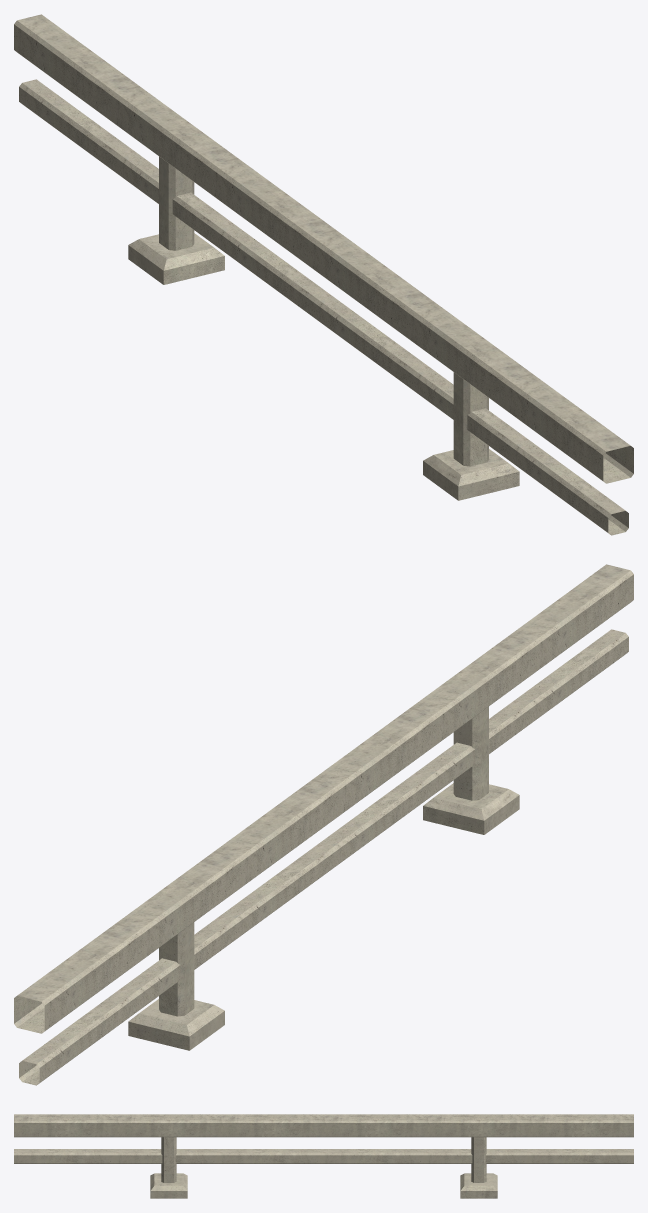
The model's file is GSDRailing1.FBX.
3 renders of one model, top to bottom at view 1: azimuth 30°, elevation 25°; view 2: azimuth 150°, elevation 25°; view 3: azimuth 270°, elevation 25°, orthographic. The views are drawn at different scales.
Visible parts, largest first — view 1: GSDRailing1; view 2: GSDRailing1; view 3: GSDRailing1.
Boxes of the visible parts, left/top/right/bottom form: GSDRailing1: left=14, top=14, right=633, bottom=535; GSDRailing1: left=14, top=564, right=633, bottom=1085; GSDRailing1: left=14, top=1114, right=633, bottom=1198.
Size of the model in its own units: 0.3 by 0.6531 by 5.
